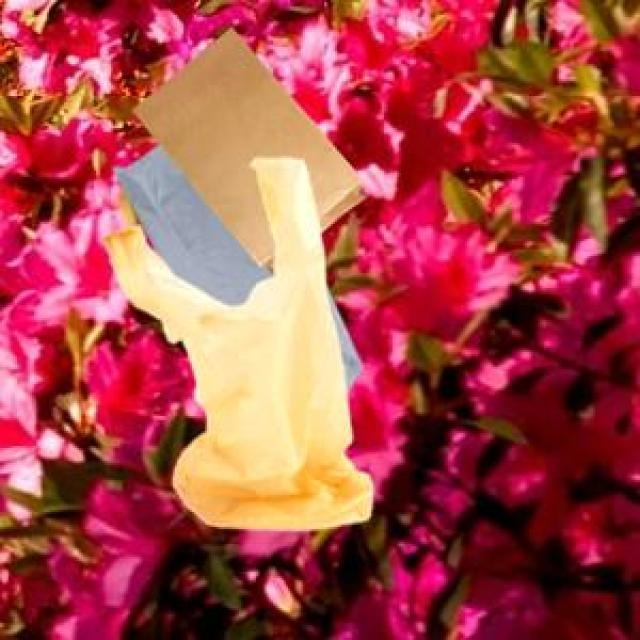paper: (130, 24, 361, 271)
